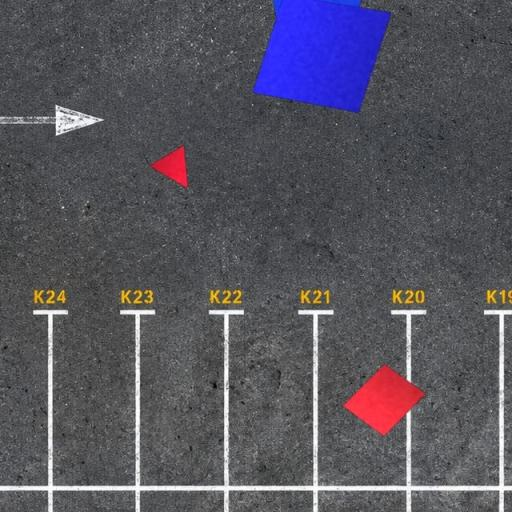BLUE_SQUARE: (252, 0, 392, 114)
RED_SQUARE: (342, 363, 426, 438)
